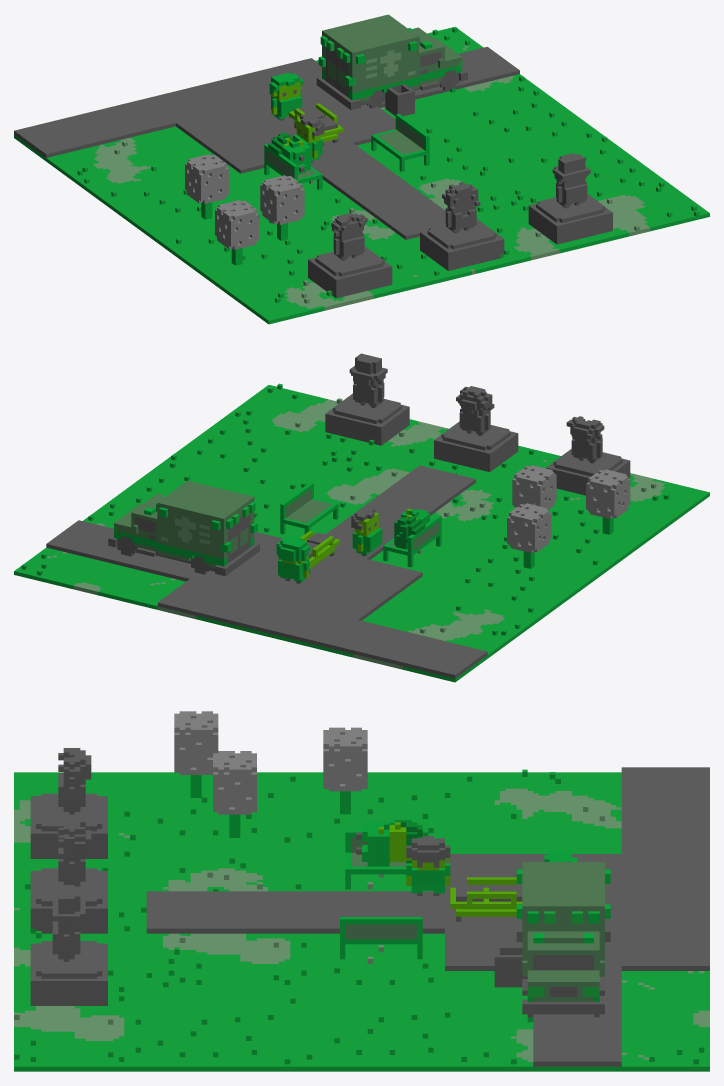
The model's file is scene_park2.obj.
3 renders of one model, top to bottom at view 1: azimuth 30°, elevation 25°; view 2: azimuth 150°, elevation 25°; view 3: azimuth 270°, elevation 25°, orthographic. The views are drawn at different scales.
Size of the model in its own units: 126 by 20 by 126.
